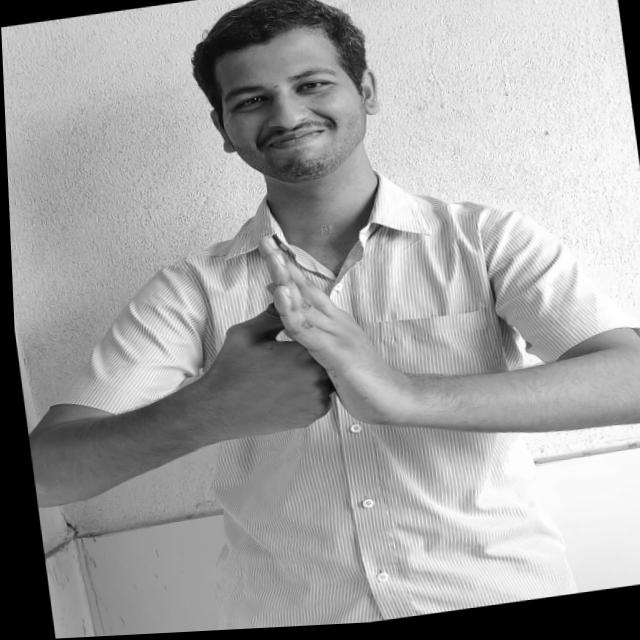Well Done: (198, 222, 414, 453)
